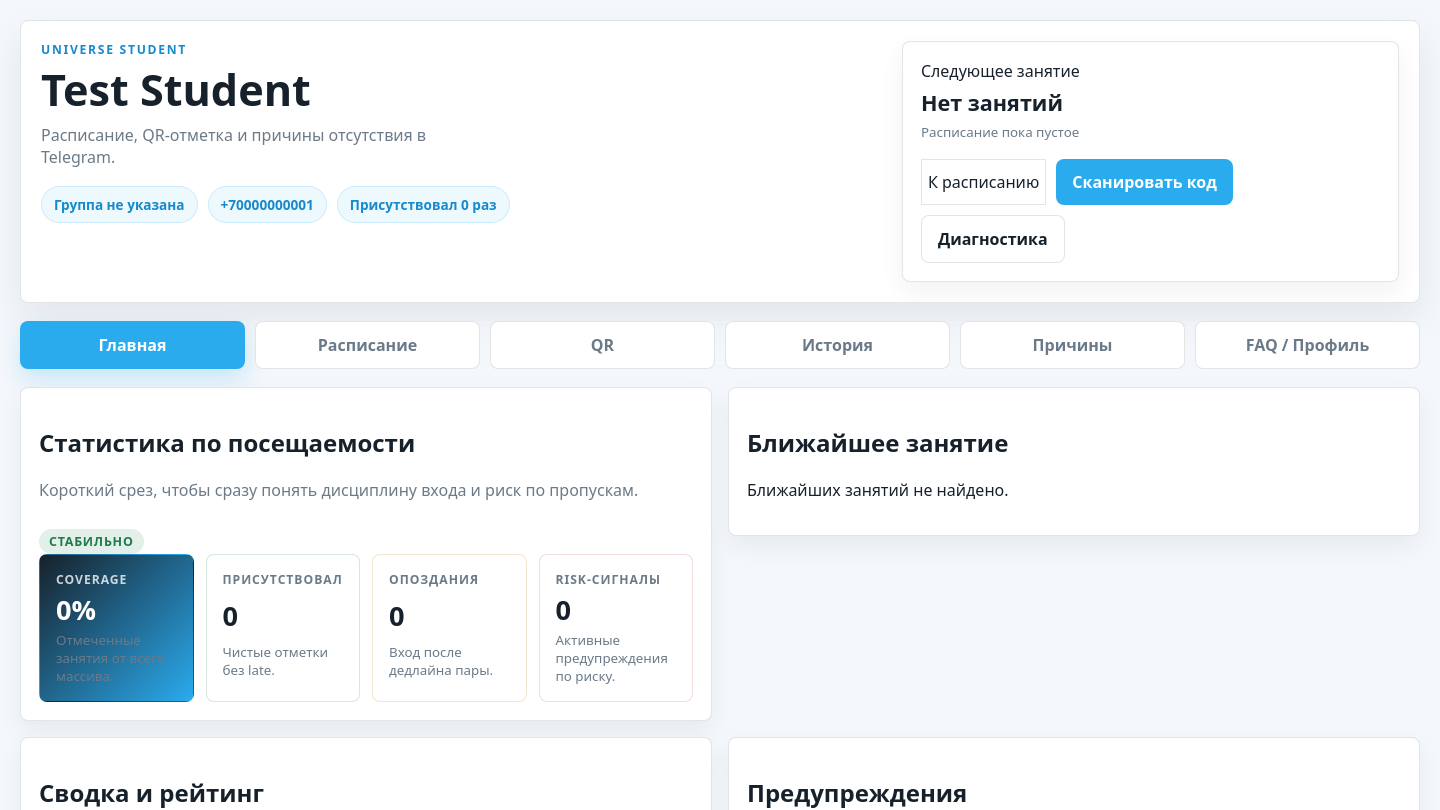
renders faq answers as readable paragraphs and lists
Expected: the heading "Test Student" is shown, x1=41 y1=60 x2=311 y2=119
Click the button "FAQ / Профиль": x=1308, y=345 x1=1195 y1=321 x2=1420 y2=369
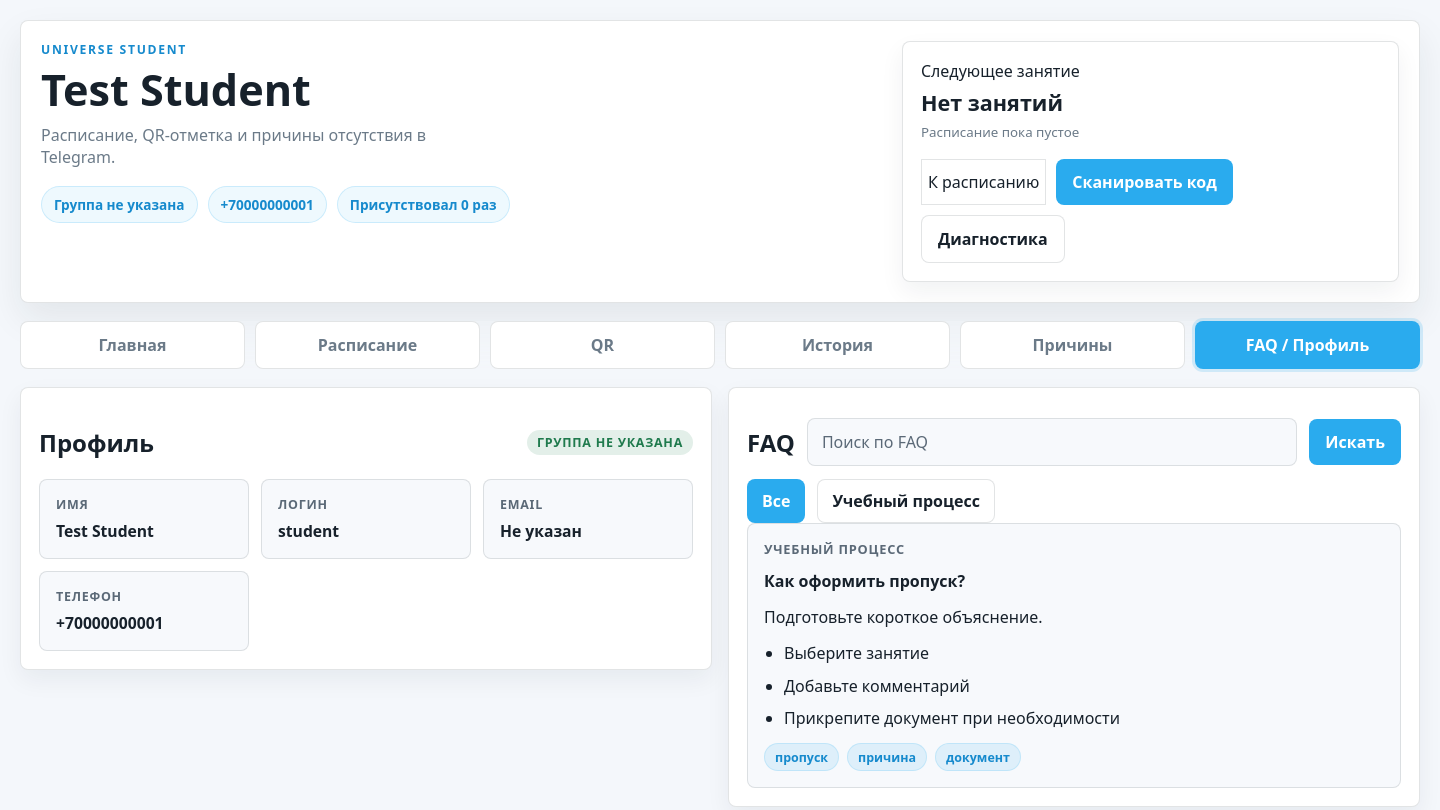
Expected: the text "Подготовьте короткое объяснение." is shown, x1=764 y1=606 x2=1042 y2=628
Expected: the list item "Выберите занятие" is shown, x1=784 y1=642 x2=929 y2=664
Expected: the list item "Добавьте комментарий" is shown, x1=784 y1=675 x2=970 y2=697
